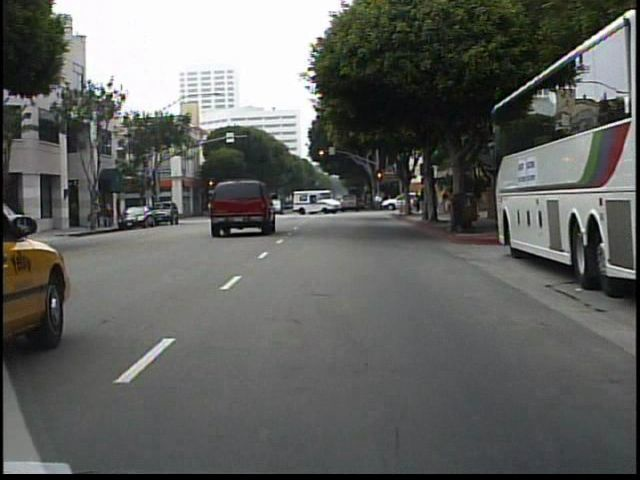person: (439, 184, 453, 219)
